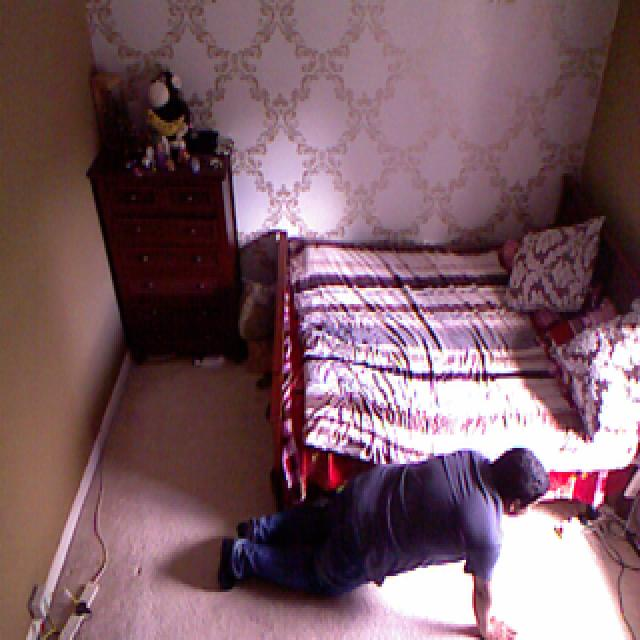crawling: (214, 445, 548, 640)
